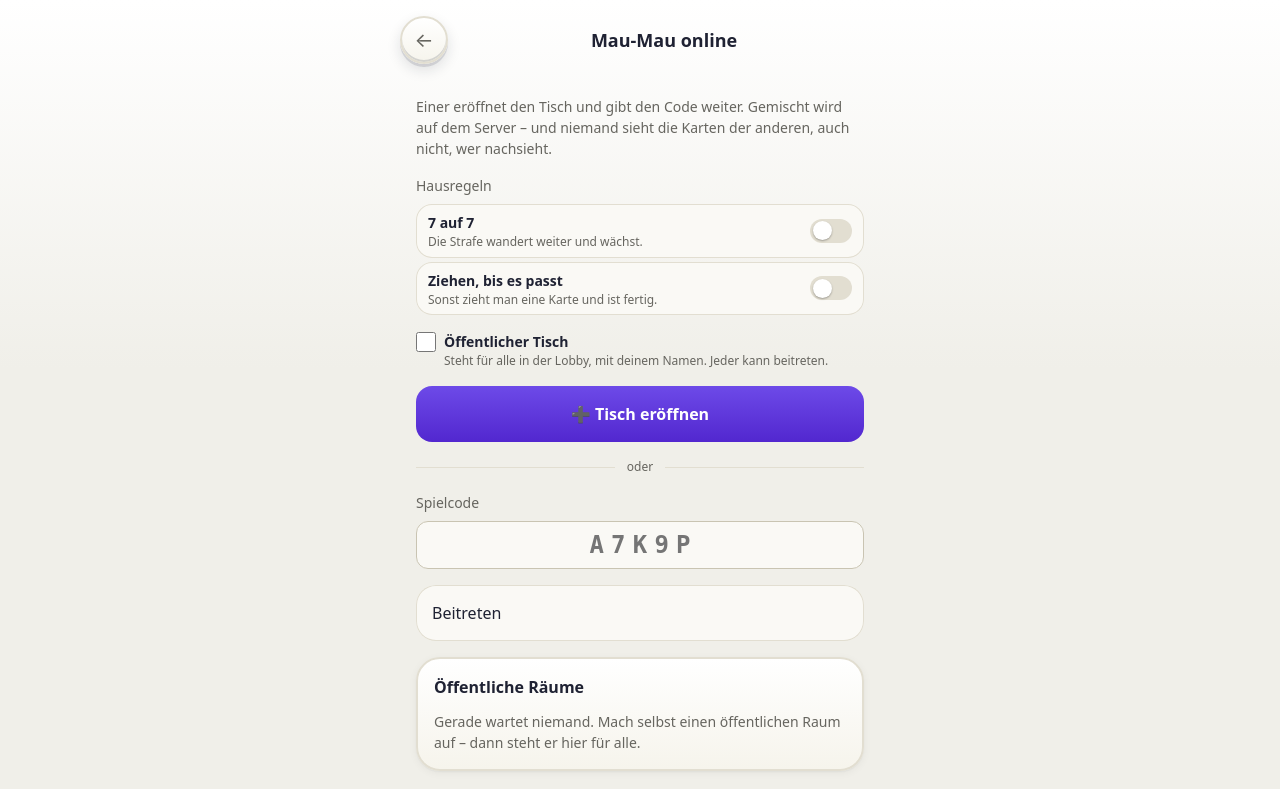
Test: Mau-Mau online › sperrt alles, solange ein anderer am Zug ist
This screenshot has width=1280, height=789.
Click the button "➕ Tisch eröffnen" at (640, 414), box [416,386,864,442]
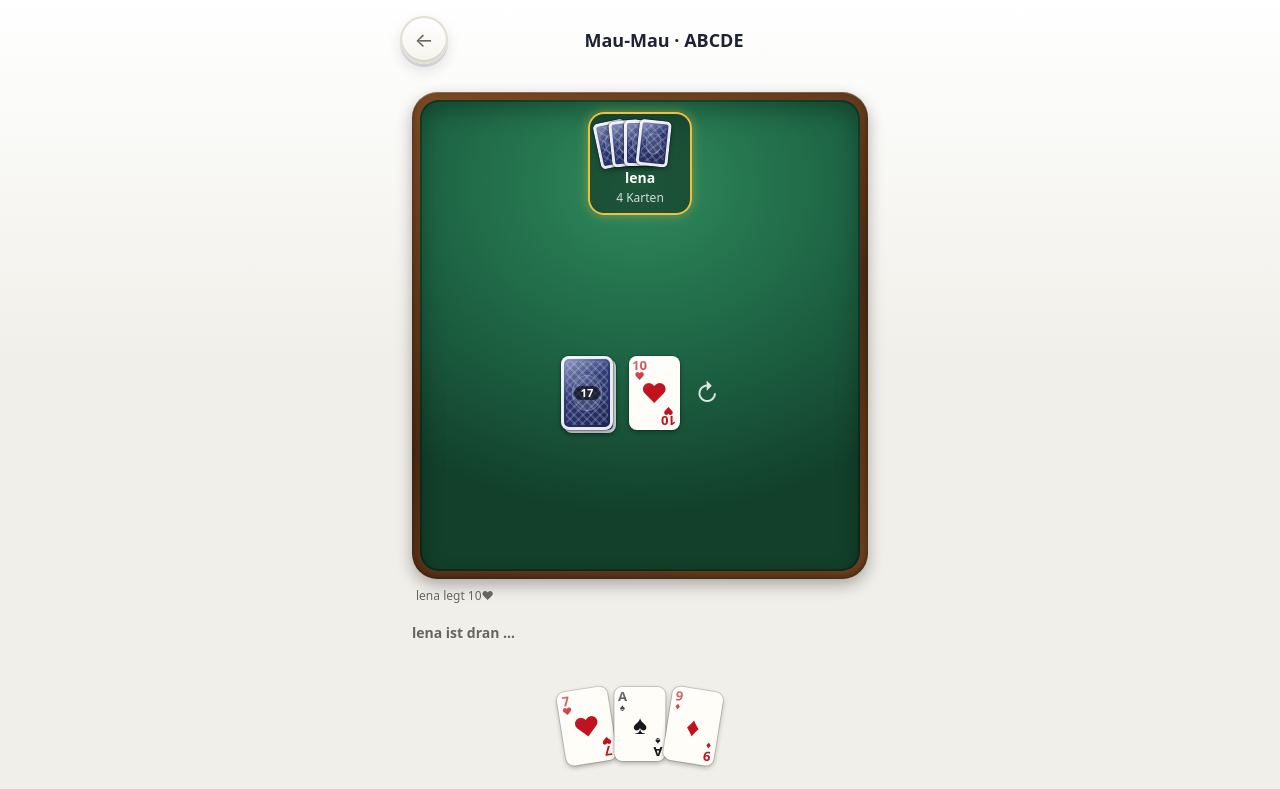
Result: the element named "Tischmitte" is shown at [561,356,719,433]
Result: the text "lena ist dran …" is shown at [412,622,515,642]
Result: the button named "Nachziehstapel" is disabled at [561,356,613,430]
